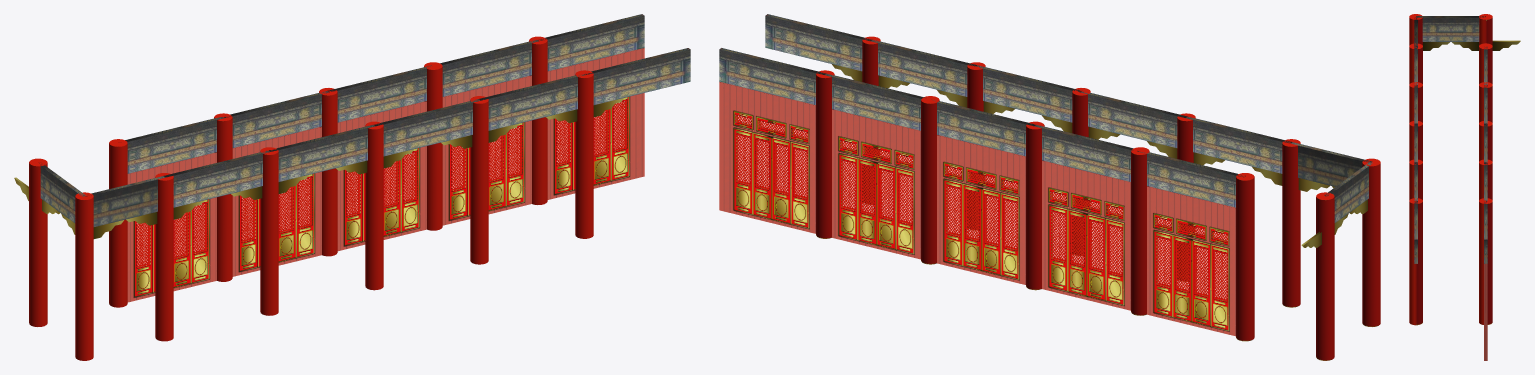
The model's file is cornerwallwallwallwallwall.dae.
The picture shows the model from 3 angles, left to right: view 1: azimuth 30°, elevation 25°; view 2: azimuth 150°, elevation 25°; view 3: azimuth 270°, elevation 25°; orthographic projection. The views are drawn at different scales.
Visible parts, largest first — view 1: MainNode; view 2: MainNode; view 3: MainNode.
Part boxes in pixels (x1,y1,x2,y2): MainNode: (14,14,690,360); MainNode: (719,14,1380,360); MainNode: (1409,14,1520,360).
Size of the model in its own units: 19.15 by 4.8 by 4.
Materials: 1 (1 with a texture image).
